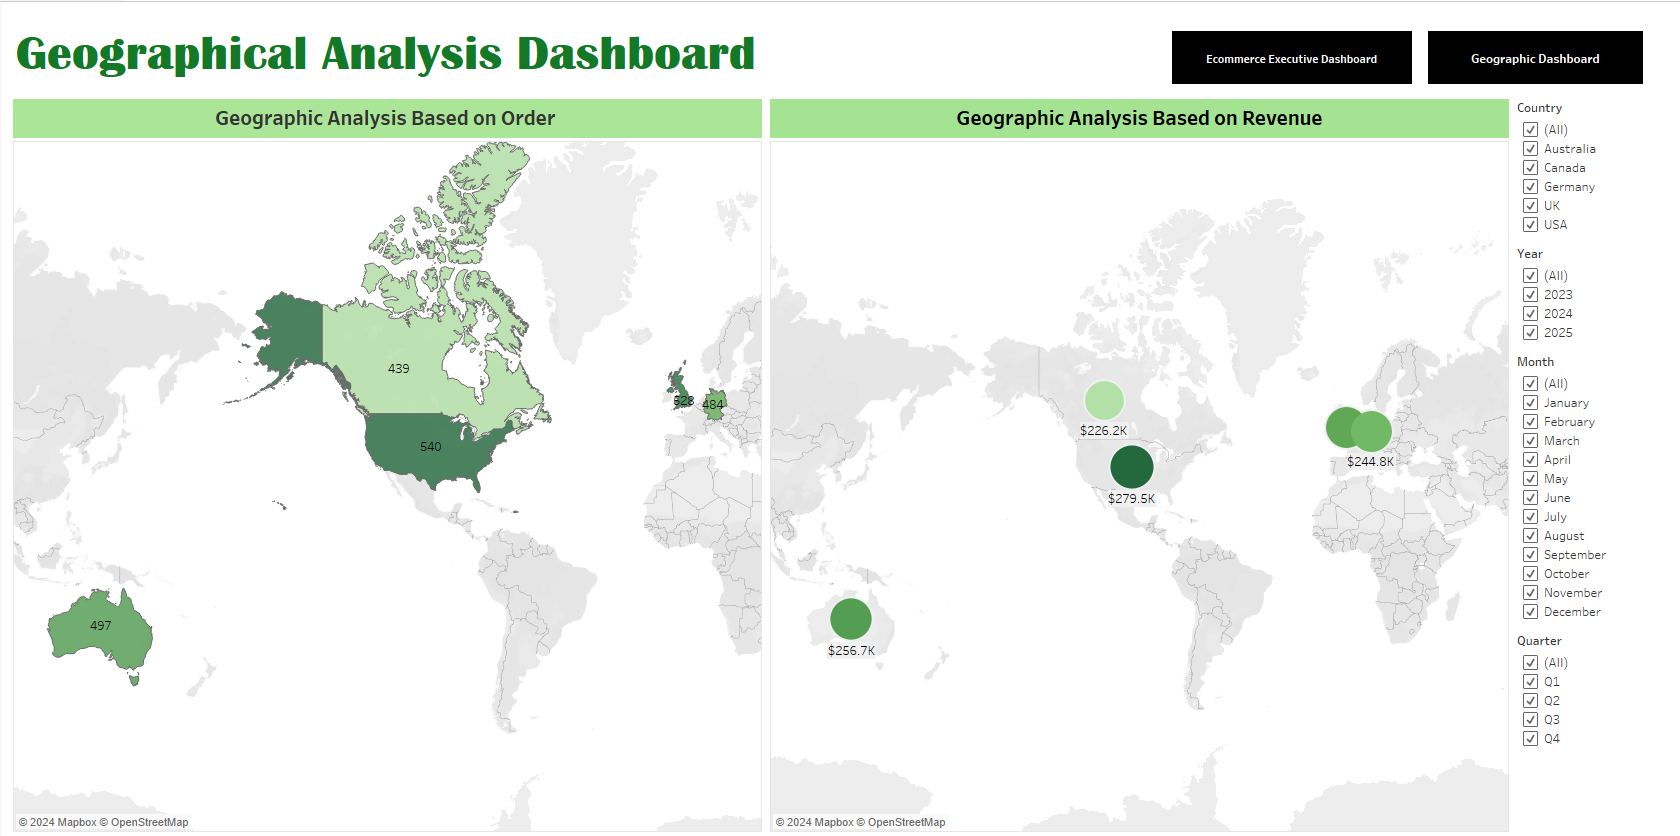

Layout of this report page (visuals, bound fields, positions):
{"tool":"tableau","page":{"name":"Geographical Dashboard","canvas":[1000,1000],"units":"permille","ordinal":1},"visuals":[{"type":"text","box":[4.8,9.5,990.5,100.5]},{"type":"dashboard-object","box":[696.8,33.9,143,64]},{"type":"dashboard-object","box":[849.6,33.9,128.1,64]},{"type":"worksheet","title":"Geographic Orders","mark":"Automatic","box":[4.8,110,450.7,880.5]},{"type":"worksheet","title":"Geographic Revenue","mark":"Automatic","box":[455.5,110,444.5,880.5]},{"type":"filter","title":"Geographic Orders","param":"[federated.15epve71f8ao6w1chxbvb10y6p53].[none:Country:nk]","box":[900,110,95.2,173.4]},{"type":"filter","title":"Geographic Orders","param":"[federated.15epve71f8ao6w1chxbvb10y6p53].[yr:OrderDate:ok]","box":[900,283.4,95.2,128.3]},{"type":"filter","title":"Geographic Revenue","param":"[federated.15epve71f8ao6w1chxbvb10y6p53].[mn:OrderDate:ok]","box":[900,411.6,95.2,331.4]},{"type":"filter","title":"Geographic Revenue","param":"[federated.15epve71f8ao6w1chxbvb10y6p53].[qr:OrderDate:ok]","box":[900,743,95.2,150.8]}]}

Visuals, with their boxes on the dashboard's canvas, which has no fixed pixel size, in thousandths of its width and height (x1, y1, x2, y2). These are canvas units, not pixel positions in the 1680x836 screenshot, which may show the page scaled, cropped or inside an application window:
text: {"x1": 5, "y1": 10, "x2": 995, "y2": 110}
dashboard-object: {"x1": 697, "y1": 34, "x2": 840, "y2": 98}
dashboard-object: {"x1": 850, "y1": 34, "x2": 978, "y2": 98}
"Geographic Orders" worksheet: {"x1": 5, "y1": 110, "x2": 456, "y2": 990}
"Geographic Revenue" worksheet: {"x1": 456, "y1": 110, "x2": 900, "y2": 990}
"Geographic Orders" filter: {"x1": 900, "y1": 110, "x2": 995, "y2": 283}
"Geographic Orders" filter: {"x1": 900, "y1": 283, "x2": 995, "y2": 412}
"Geographic Revenue" filter: {"x1": 900, "y1": 412, "x2": 995, "y2": 743}
"Geographic Revenue" filter: {"x1": 900, "y1": 743, "x2": 995, "y2": 894}
